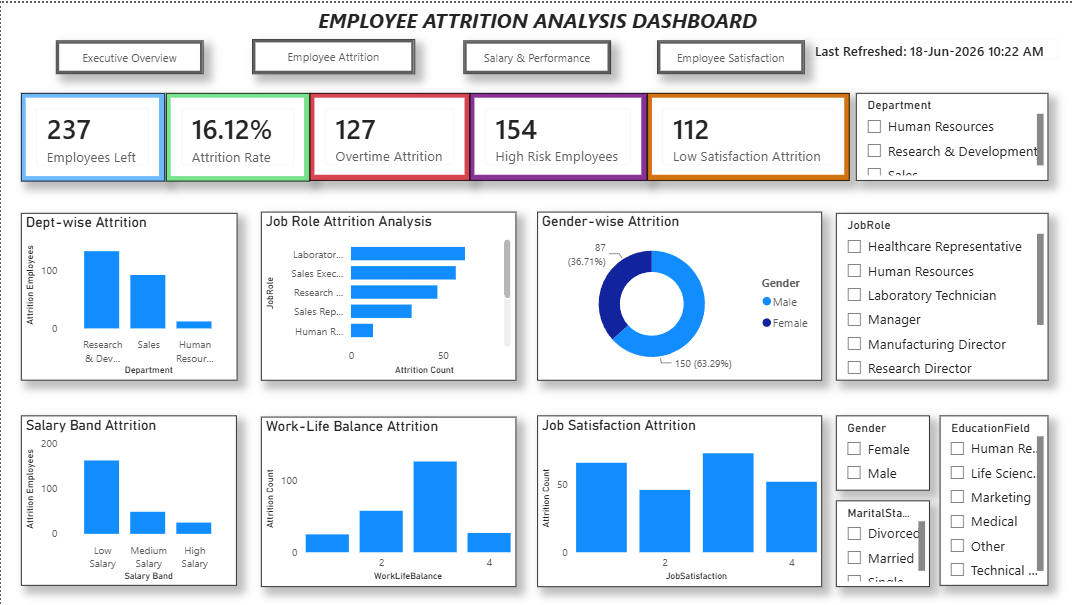

Layout of this report page (visuals, bound fields, positions):
{"tool":"powerbi","page":{"name":"Employee Attrition Analysis ","canvas":[1280,720],"ordinal":1},"visuals":[{"type":"cardVisual","fields":{"Data":["Measures Table.Employees Left"]},"box":[24.6,107,171.9,105.3],"z":0},{"type":"cardVisual","fields":{"Data":["Measures Table.Attrition Rate"]},"box":[196.5,107,171.9,105.3],"z":1000},{"type":"cardVisual","fields":{"Data":["Measures Table.Overtime Attrition"]},"box":[368.7,107.5,191,104.5],"z":2000},{"type":"cardVisual","fields":{"Data":["Measures Table.High Risk Employees"]},"box":[559.7,107.5,211.9,104.5],"z":3000},{"type":"cardVisual","fields":{"Data":["Measures Table.Low Satisfaction Attrition"]},"box":[771.6,107.5,241.8,104.5],"z":4000},{"type":"clusteredColumnChart","title":"Dept-wise Attrition","fields":{"Category":["Employee_Details.Department"],"Y":["Measures Table.Attrition Employees"]},"box":[23.9,250.7,258.2,200],"z":5000},{"type":"barChart","title":"Job Role Attrition Analysis","fields":{"Category":["Employee_Details.JobRole"],"Y":["Measures Table.Attrition Count"]},"box":[310.4,249.3,304.5,201.5],"z":6000},{"type":"donutChart","title":"Gender-wise Attrition","fields":{"Category":["Employee_Details.Gender"],"Y":["Measures Table.Attrition Employees"]},"box":[640.3,249.3,340.3,201.5],"z":7000},{"type":"clusteredColumnChart","title":"Salary Band Attrition","fields":{"Category":["Job_Performance.Salary Band"],"Y":["Measures Table.Attrition Employees"]},"box":[24.6,493,257.9,203.5],"z":8000},{"type":"clusteredColumnChart","title":"Work-Life Balance Attrition","fields":{"Y":["Measures Table.Attrition Count"],"Category":["Attrition_Satisfaction.WorkLifeBalance"]},"box":[310.4,494,304.5,203],"z":9000},{"type":"clusteredColumnChart","title":"Job Satisfaction Attrition","fields":{"Category":["Attrition_Satisfaction.JobSatisfaction"],"Y":["Measures Table.Attrition Count"]},"box":[640.3,492.5,340.3,204.5],"z":10000},{"type":"textbox","box":[336.8,0,607,71.9],"z":11000},{"type":"slicer","fields":{"Values":["Employee_Details.Department"]},"box":[1020.9,107.5,229.9,104.5],"z":12000},{"type":"slicer","fields":{"Values":["Employee_Details.Gender"]},"box":[997,492.5,111.9,89.6],"z":13000},{"type":"slicer","fields":{"Values":["Employee_Details.JobRole"]},"box":[997,250.7,253.7,200],"z":14000},{"type":"slicer","fields":{"Values":["Employee_Details.MaritalStatus"]},"box":[997,594,111.9,103],"z":15000},{"type":"slicer","fields":{"Values":["Employee_Details.EducationField"]},"box":[1121.1,493,129.8,203.5],"z":16000},{"type":"cardVisual","fields":{"Data":["Measures Table.Last Refresh"]},"box":[941.8,25.4,338.8,59.7],"z":17000},{"type":"actionButton","box":[65.7,44.8,176.1,40.3],"z":17001},{"type":"actionButton","box":[300,43.3,194,41.8],"z":17002},{"type":"actionButton","box":[552.2,44.8,176.1,40.3],"z":17003},{"type":"actionButton","box":[783.6,44.8,176.1,40.3],"z":17004}]}

Visuals, with their boxes in screenshot pixels (x1, y1, x2, y2), scaled from the page's 1280x720 canvas onto the 1072x605 screenshot:
cardVisual - Measures Table.Employees Left: <region>21, 90, 165, 178</region>
cardVisual - Measures Table.Attrition Rate: <region>165, 90, 309, 178</region>
cardVisual - Measures Table.Overtime Attrition: <region>309, 90, 469, 178</region>
cardVisual - Measures Table.High Risk Employees: <region>469, 90, 646, 178</region>
cardVisual - Measures Table.Low Satisfaction Attrition: <region>646, 90, 849, 178</region>
"Dept-wise Attrition" clusteredColumnChart: <region>20, 211, 236, 379</region>
"Job Role Attrition Analysis" barChart: <region>260, 209, 515, 379</region>
"Gender-wise Attrition" donutChart: <region>536, 209, 821, 379</region>
"Salary Band Attrition" clusteredColumnChart: <region>21, 414, 237, 585</region>
"Work-Life Balance Attrition" clusteredColumnChart: <region>260, 415, 515, 586</region>
"Job Satisfaction Attrition" clusteredColumnChart: <region>536, 414, 821, 586</region>
textbox: <region>282, 0, 790, 60</region>
slicer - Employee_Details.Department: <region>855, 90, 1048, 178</region>
slicer - Employee_Details.Gender: <region>835, 414, 929, 489</region>
slicer - Employee_Details.JobRole: <region>835, 211, 1047, 379</region>
slicer - Employee_Details.MaritalStatus: <region>835, 499, 929, 586</region>
slicer - Employee_Details.EducationField: <region>939, 414, 1048, 585</region>
cardVisual - Measures Table.Last Refresh: <region>789, 21, 1071, 72</region>
actionButton: <region>55, 38, 203, 72</region>
actionButton: <region>251, 36, 414, 72</region>
actionButton: <region>462, 38, 610, 72</region>
actionButton: <region>656, 38, 804, 72</region>
